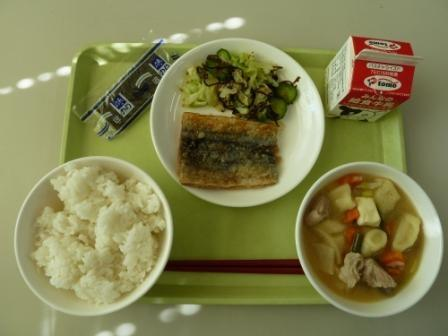Fish: (174, 103, 290, 200)
Milk: (316, 31, 420, 126)
Rice: (22, 164, 155, 308)
Soups: (299, 166, 440, 306)
salad with sauce: (183, 41, 297, 128)
